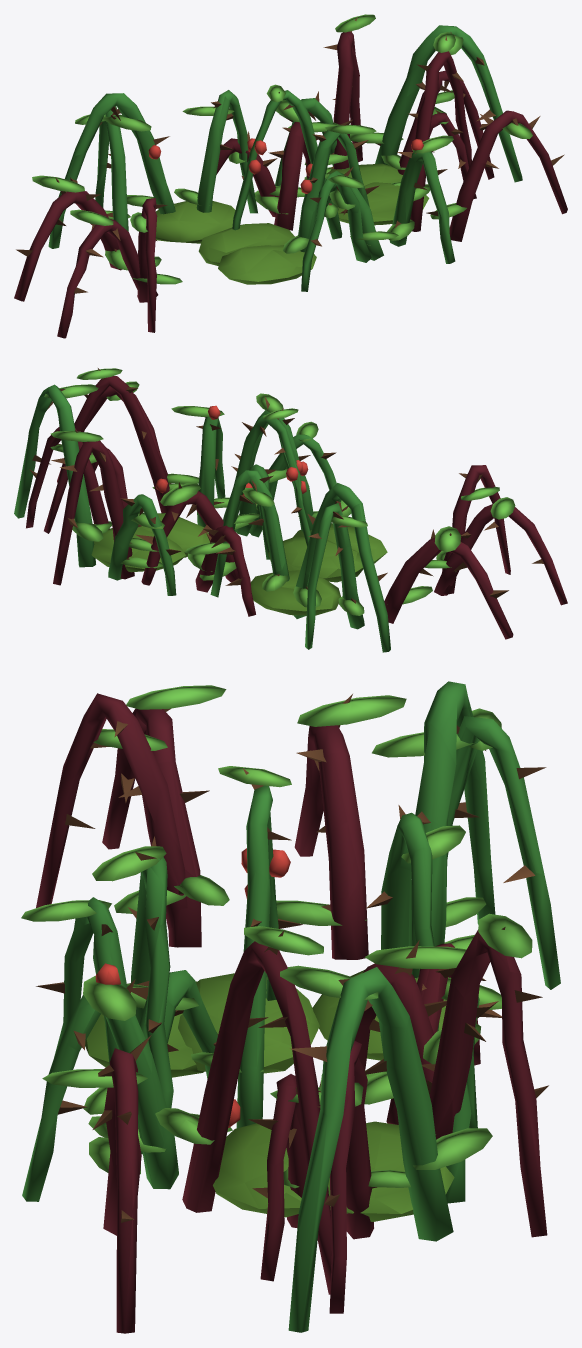
Rendered from glade_thorn_thicket_lod1.glb.
3 renders of one model, top to bottom at view 1: azimuth 30°, elevation 25°; view 2: azimuth 150°, elevation 25°; view 3: azimuth 270°, elevation 25°, orthographic. The views are drawn at different scales.
Parts seen in each view (by area): view 1: glade_thorn_thicket.001; view 2: glade_thorn_thicket.001; view 3: glade_thorn_thicket.001.
Boxes of the visible parts, left/top/right/bottom form: glade_thorn_thicket.001: left=14, top=14, right=567, bottom=338; glade_thorn_thicket.001: left=14, top=368, right=567, bottom=652; glade_thorn_thicket.001: left=21, top=681, right=560, bottom=1333.
Bounding box in the file's own units: 18.99 × 6 × 8.73.
